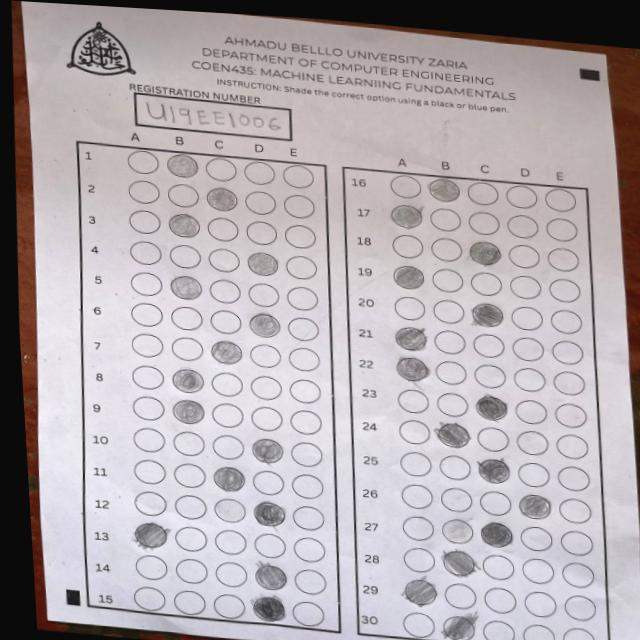bubble: (402, 577, 439, 607), (441, 549, 477, 578), (434, 421, 471, 449), (251, 593, 286, 622), (133, 521, 169, 549), (517, 492, 552, 520), (164, 152, 200, 179), (479, 520, 513, 548), (393, 325, 428, 352), (470, 301, 505, 328), (395, 355, 430, 382), (440, 614, 476, 640), (254, 563, 287, 591), (477, 456, 510, 484), (252, 500, 285, 528), (212, 465, 246, 492), (392, 263, 426, 290), (251, 437, 283, 465), (171, 366, 204, 393), (172, 398, 205, 425), (469, 239, 502, 266), (475, 393, 508, 420), (390, 203, 424, 229), (168, 212, 200, 239), (170, 274, 202, 300), (246, 251, 278, 277), (249, 311, 281, 337), (210, 339, 242, 365), (428, 177, 461, 202), (205, 186, 237, 211)
